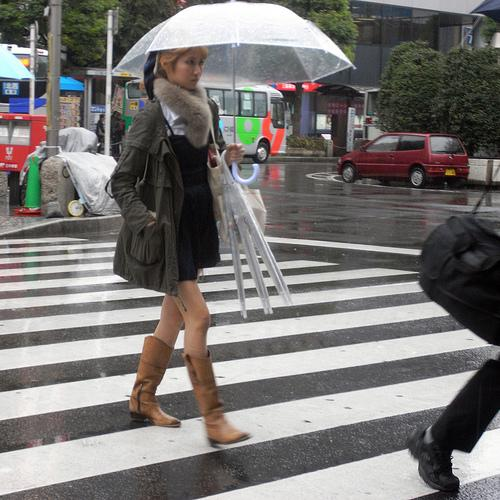person: (109, 44, 253, 447)
